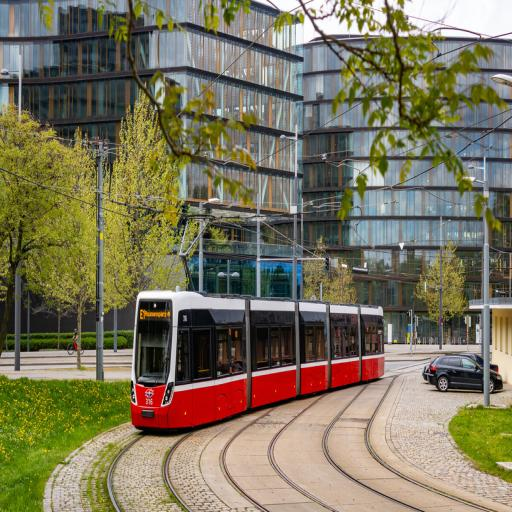Flexity: (128, 284, 387, 434)
